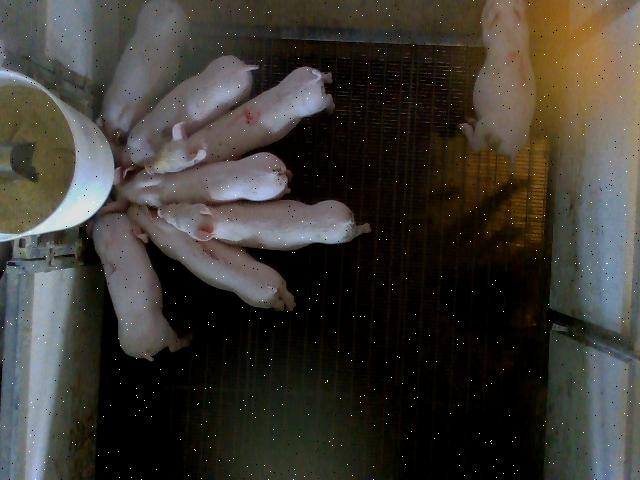pig-1: (128, 204, 295, 311)
pig-3: (458, 2, 536, 169)
pig-4: (145, 67, 335, 174)
